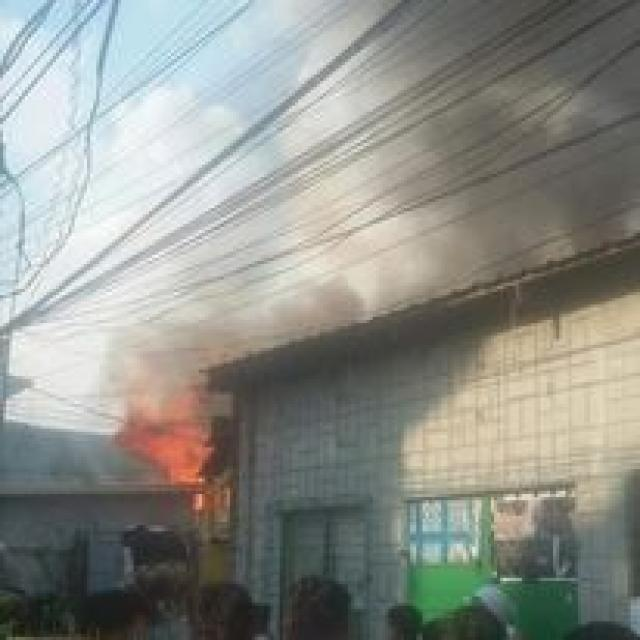Fire: (110, 376, 224, 525)
Smoke: (248, 0, 640, 242), (72, 238, 548, 371)
